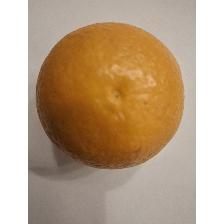Orange: (33, 19, 187, 173)
